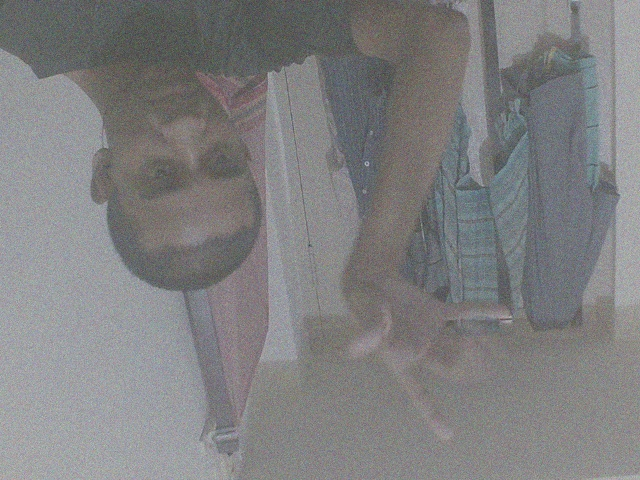hand: (341, 260, 523, 451)
